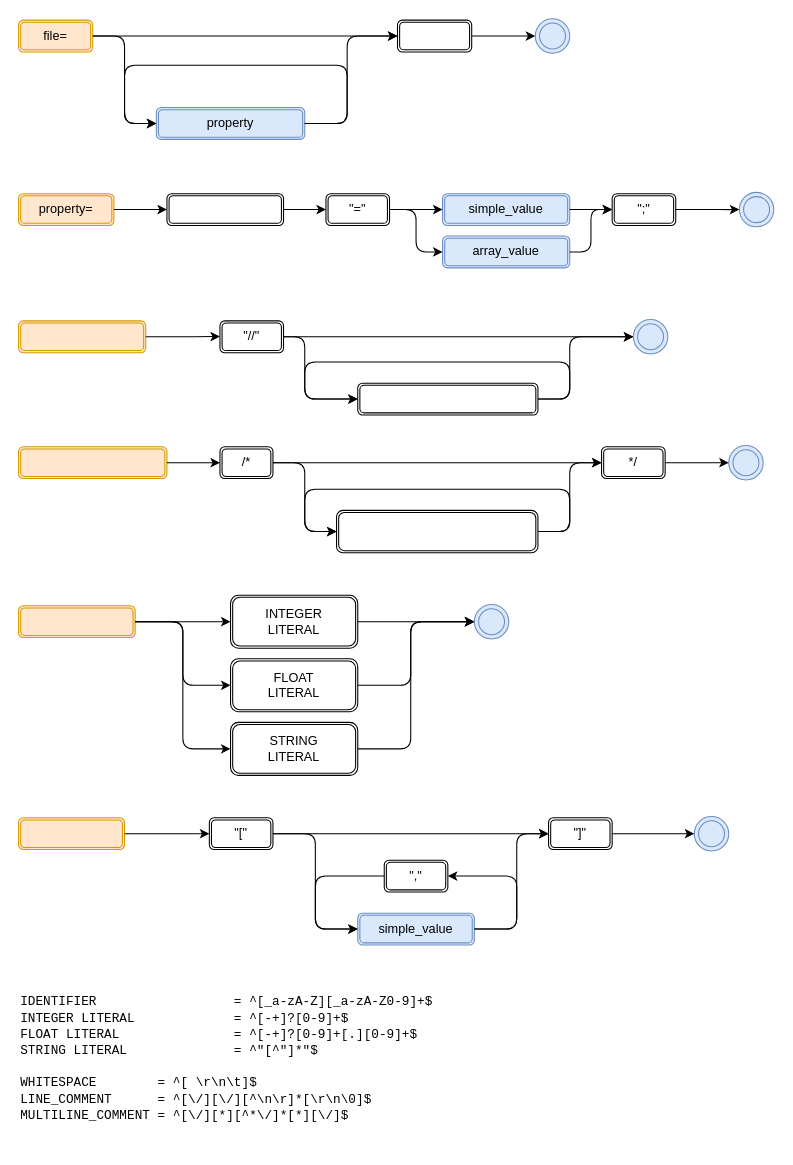
The diagram is 793 pixels wide and 1165 high, and some of its shapes have lost their labels. Here are the shapes that lost their labels. From the top down, the centre of each, then its label:
[434,35]: EOF
[225,209]: IDENTIFIER
[81,336]: line_comment=
[447,398]: line_comment_character
[92,462]: multiline_comment=
[436,531]: multiline_comment_character
[76,621]: simple_value=
[71,833]: array_value=
